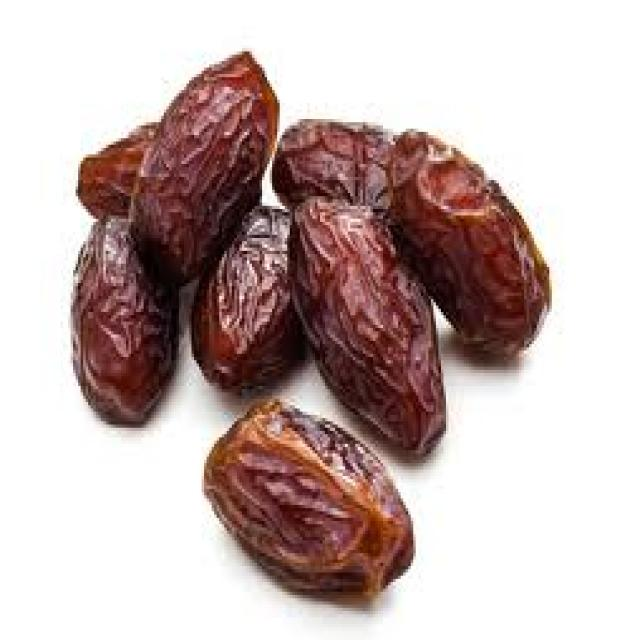dates: (61, 71, 570, 614)
